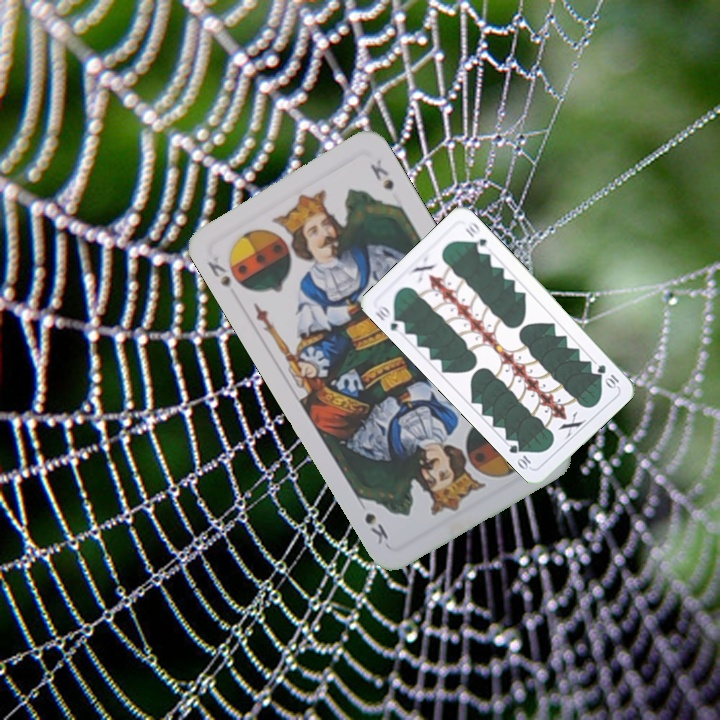G10: (371, 300, 408, 337), (593, 360, 622, 391)
SK: (203, 252, 242, 302)
